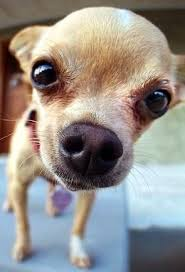chihuahua: (2, 4, 185, 253)
